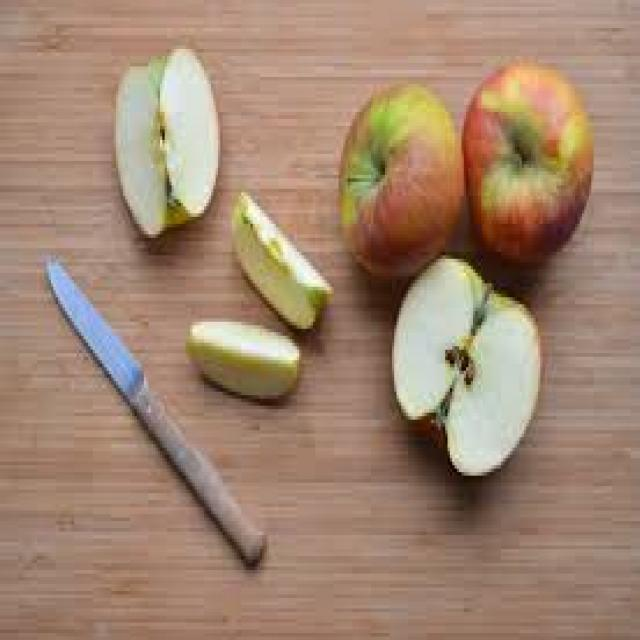Apple: (391, 260, 544, 480), (463, 64, 599, 268), (334, 83, 464, 274), (117, 48, 220, 245), (230, 190, 334, 338), (182, 327, 304, 422)
